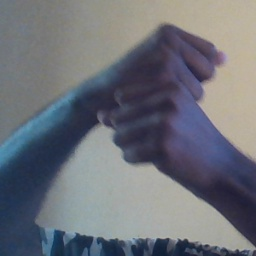G: (92, 13, 228, 168)
